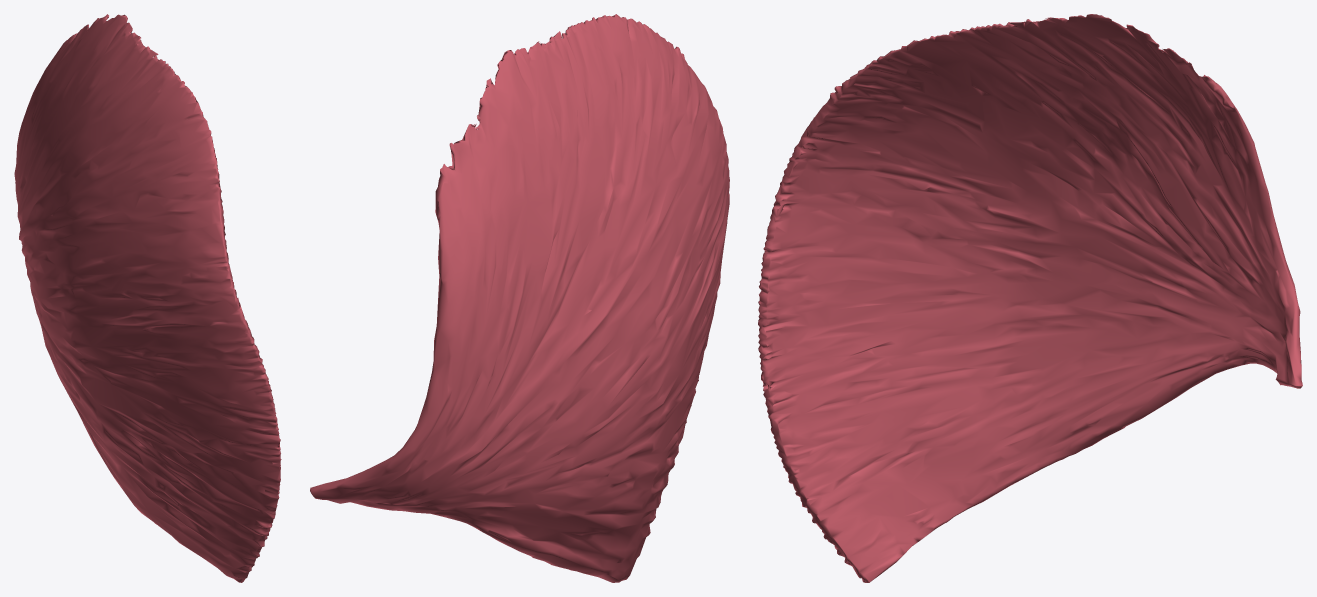
The picture shows the model from 3 angles, left to right: view 1: azimuth 30°, elevation 25°; view 2: azimuth 150°, elevation 25°; view 3: azimuth 270°, elevation 25°; orthographic projection. The views are drawn at different scales.
Visible parts, largest first — view 1: 右侧颞顶肌; view 2: 右侧颞顶肌; view 3: 右侧颞顶肌.
Part boxes in pixels (left/top/right/bottom): 右侧颞顶肌: left=14, top=14, right=281, bottom=582; 右侧颞顶肌: left=310, top=14, right=729, bottom=582; 右侧颞顶肌: left=758, top=14, right=1302, bottom=582.
Bounding box in the file's own units: 0.0563 × 0.1721 × 0.1516.
